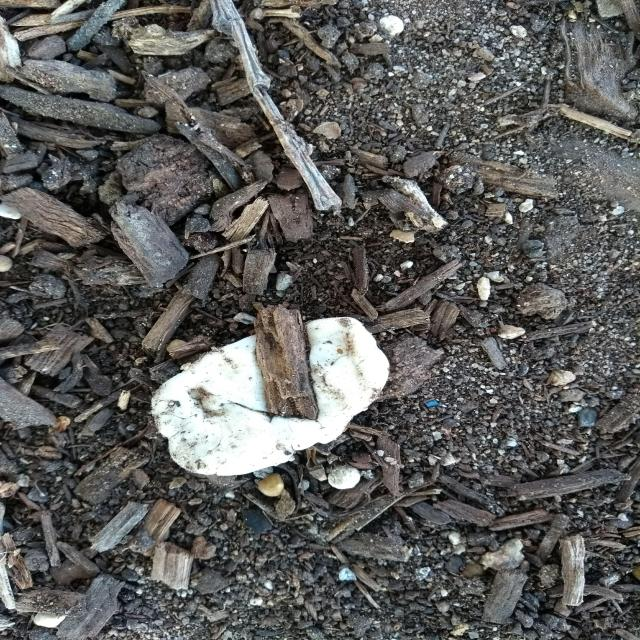litter: (104, 308, 407, 484)
